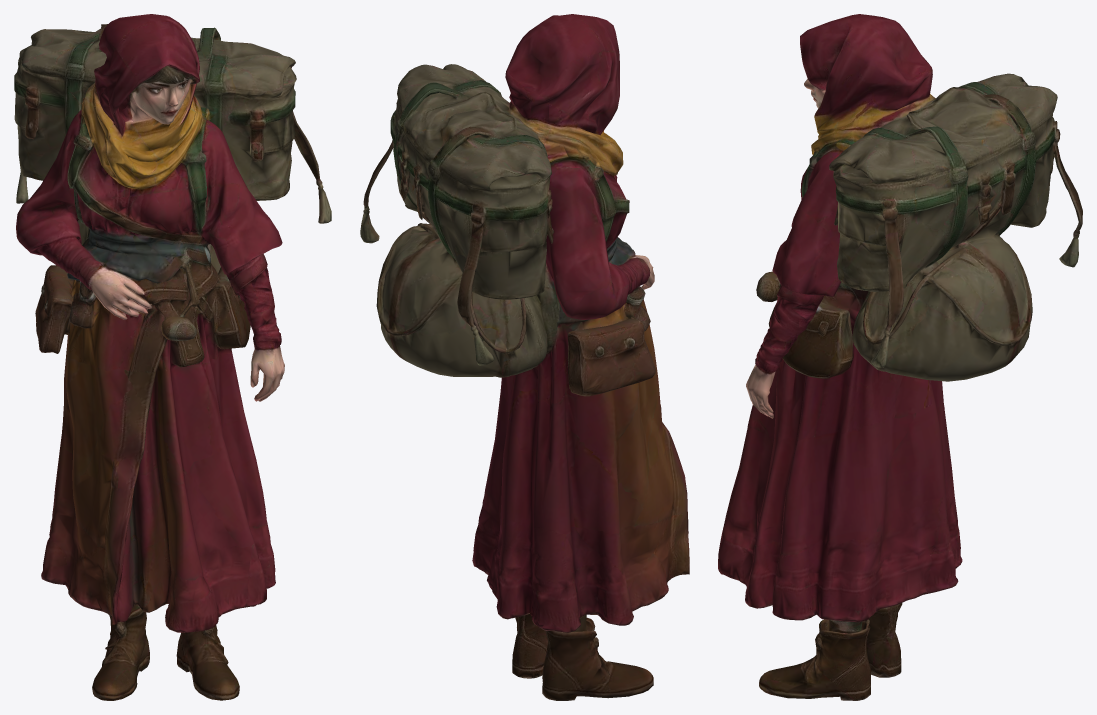
Rendered from ysolde_merchant.glb.
3 views of the same model, side by side, from view 1: azimuth 30°, elevation 25°; view 2: azimuth 150°, elevation 25°; view 3: azimuth 270°, elevation 25° (orthographic).
Bounding box in the file's own units: 0.8786 × 1.9 × 0.9566.
1 material, 1 textured.
